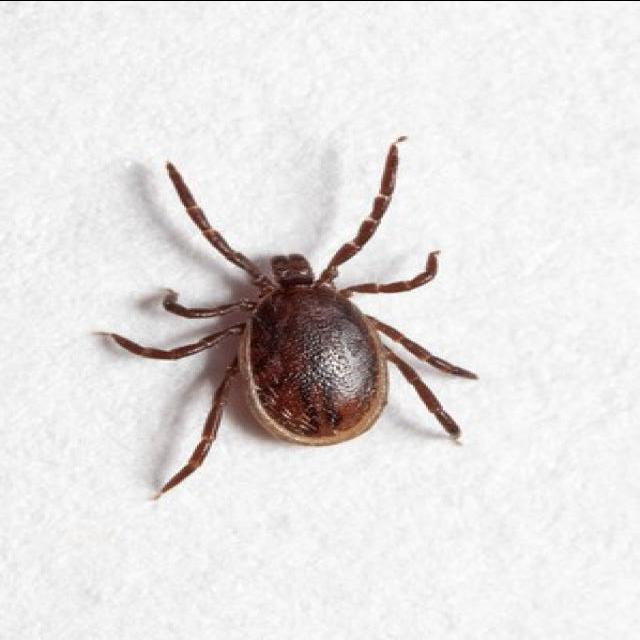Ixodes Ricinus-M: (109, 135, 477, 501)
